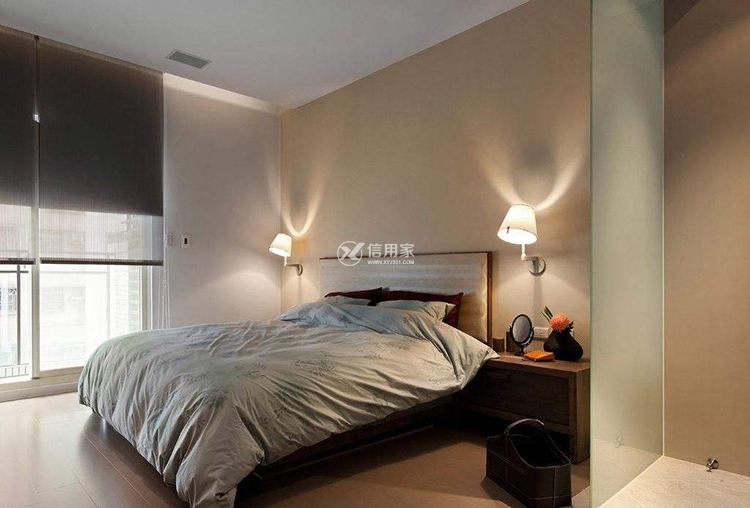床: (74, 315, 489, 491)
枕头: (290, 293, 454, 341)
灯: (498, 201, 542, 275), (267, 232, 300, 273)
